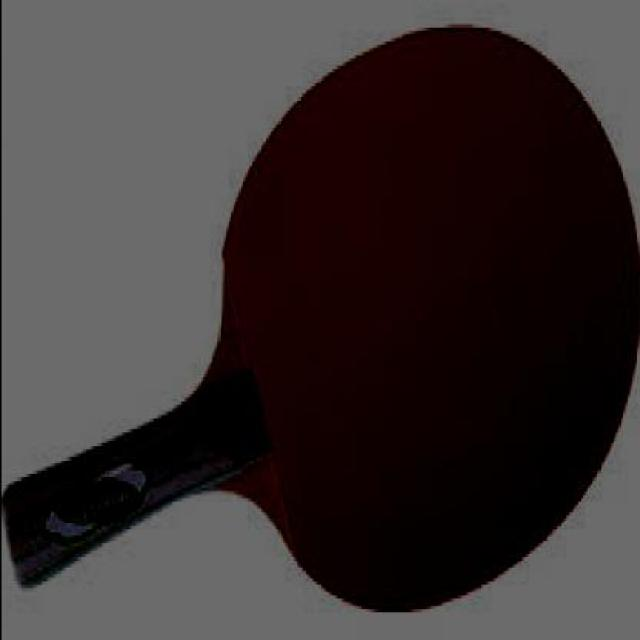table_tennis_racket: (212, 9, 639, 618)
